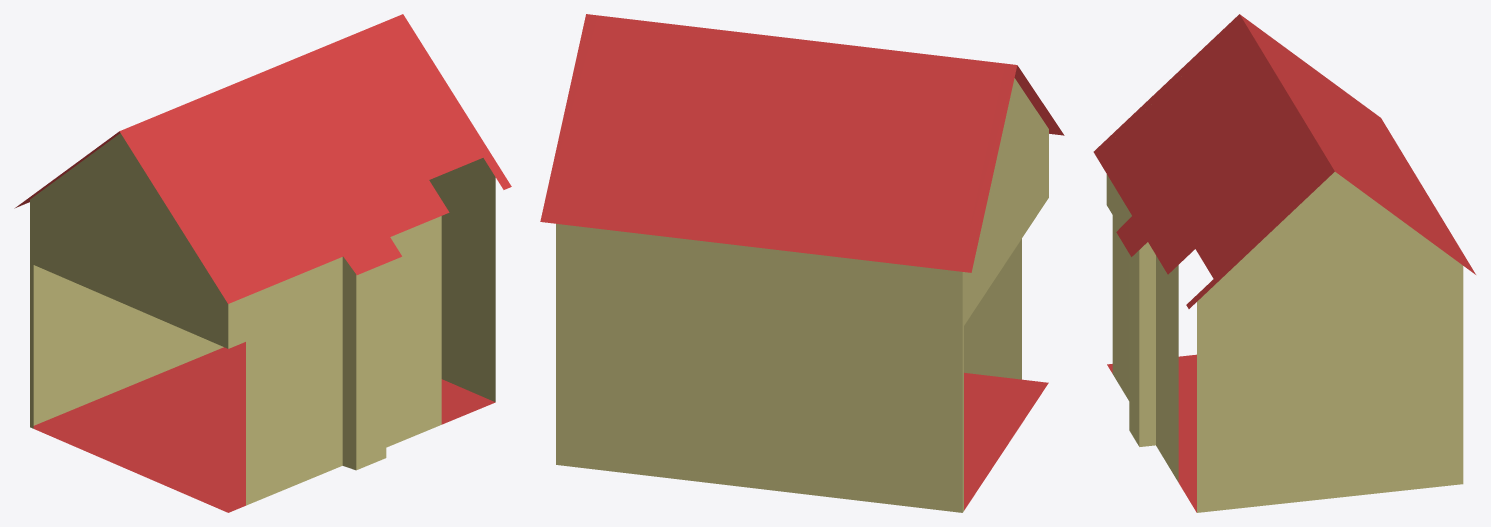
The picture shows the model from 3 angles, left to right: view 1: azimuth 30°, elevation 25°; view 2: azimuth 150°, elevation 25°; view 3: azimuth 270°, elevation 25°; orthographic projection. The views are drawn at different scales.
Size of the model in its own units: 20.27 by 17.4 by 16.6.
